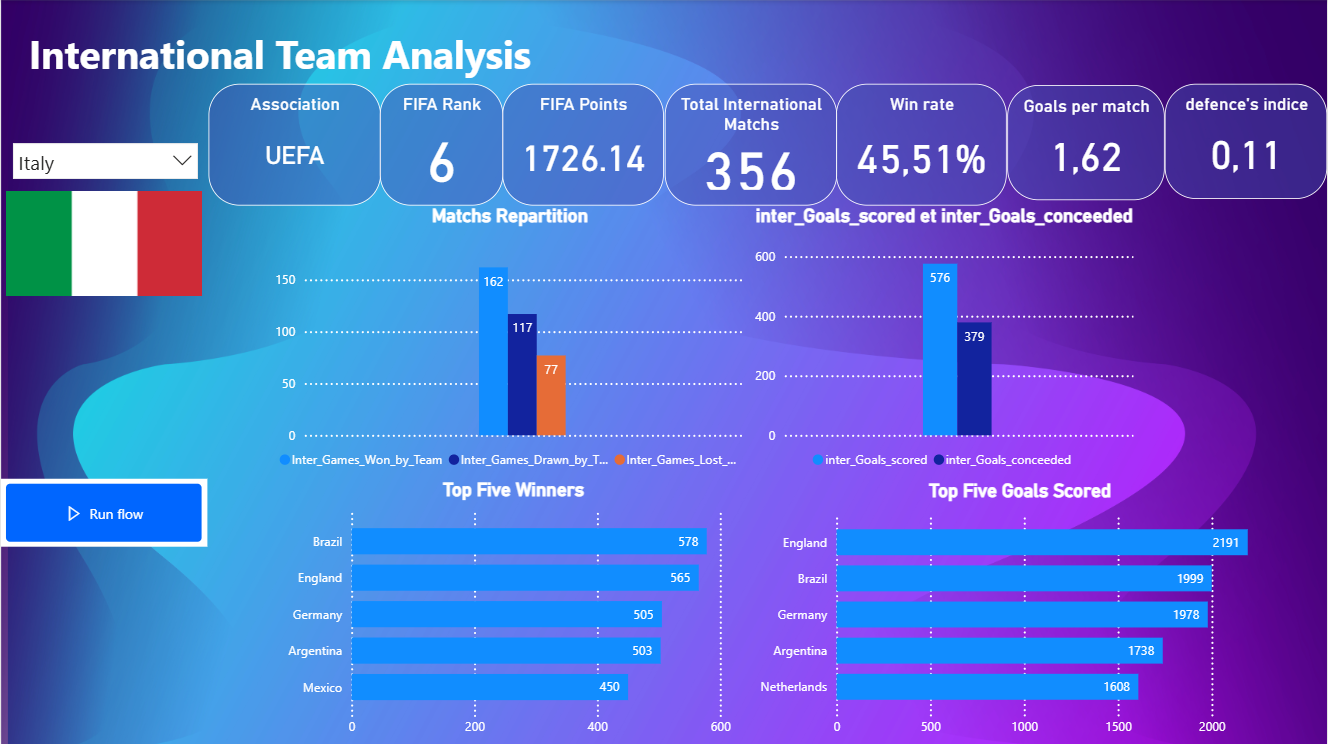

What the dashboard file says about the page in this screenshot:
{"tool":"powerbi","page":{"name":"International_Analysis","canvas":[1280,720],"ordinal":1},"visuals":[{"type":"slicer","fields":{"Values":["dim_fifa_ranking.team"]},"box":[1.4,127.6,199,52.1],"z":0},{"type":"card","title":"Total International Matchs","fields":{"Values":["fact_international_matches.Total_international_Matches_by_Team"]},"box":[640.1,80.5,166.1,117.5],"z":1000},{"type":"simpleImageEBC4593F96F1425FB3D84C5BF02B5075","fields":{"imageURL":["dim_fifa_ranking.Flag"]},"box":[0,179.8,199,111.1],"z":2000},{"type":"card","title":"Win rate","fields":{"Values":["fact_international_matches.Win Rate % by Team"]},"box":[806.2,80.5,164.8,117.5],"z":3000},{"type":"card","title":"Association","fields":{"Values":["Min(dim_fifa_ranking.association)"]},"box":[200.6,80.5,166.1,117.5],"z":4000},{"type":"card","title":"FIFA Points","fields":{"Values":["Min(dim_fifa_ranking.points)"]},"box":[484.2,80.5,155.9,117.5],"z":5000},{"type":"card","title":"FIFA Rank","fields":{"Values":["Sum(dim_fifa_ranking.rank)"]},"box":[365.4,80.5,118.8,117.5],"z":6000},{"type":"card","title":"Goals per match","fields":{"Values":["fact_international_matches.Attaque_indice"]},"box":[971.1,81.8,152,111.2],"z":7000},{"type":"clusteredColumnChart","title":"Matchs Repartition","fields":{"Y":["fact_international_matches.Inter_Games_Won_by_Team","fact_international_matches.Inter_Games_Drawn_by_Team","fact_international_matches.Inter_Games_Lost_by_Team"]},"box":[259.4,198,463.8,264.5],"z":8000},{"type":"clusteredColumnChart","fields":{"Y":["fact_international_matches.inter_Goals_scored","fact_international_matches.inter_Goals_conceeded"]},"box":[723.2,198,375.6,264.5],"z":9000},{"type":"textbox","box":[22,22,521.4,68.6],"z":10000},{"type":"card","title":"defence''s indice ","fields":{"Values":["fact_international_matches.deffence_indice"]},"box":[1123.1,80.5,157.2,111.2],"z":11000},{"type":"barChart","title":"Top Five Winners","fields":{"Category":["dim_fifa_ranking.team"],"Y":["fact_international_matches.Inter_Games_Won_by_Team"]},"box":[267,462.5,456.1,258.1],"z":12000},{"type":"barChart","title":"Top Five Goals Scored","fields":{"Category":["dim_fifa_ranking.team"],"Y":["fact_international_matches.inter_Goals_scored"]},"box":[723.1,463.6,521.9,256.4],"z":13000},{"type":"FlowVisual_C29F1DCC_81F5_4973_94AD_0517D44CC06A","fields":{"table":["dim_fifa_ranking.team"]},"box":[0,462.4,199,65.9],"z":14000}]}

Visuals, with their boxes in screenshot pixels (x1, y1, x2, y2), scaled from the page's 1280x720 canvas onto the 1328x744 screenshot:
slicer - dim_fifa_ranking.team: <box>1,132,208,186</box>
"Total International Matchs" card: <box>664,83,836,205</box>
simpleImageEBC4593F96F1425FB3D84C5BF02B5075 - dim_fifa_ranking.Flag: <box>0,186,206,301</box>
"Win rate" card: <box>836,83,1007,205</box>
"Association" card: <box>208,83,380,205</box>
"FIFA Points" card: <box>502,83,664,205</box>
"FIFA Rank" card: <box>379,83,502,205</box>
"Goals per match" card: <box>1008,85,1165,199</box>
"Matchs Repartition" clusteredColumnChart: <box>269,205,750,478</box>
clusteredColumnChart - fact_international_matches.inter_Goals_scored x fact_international_matches.inter_Goals_conceeded: <box>750,205,1140,478</box>
textbox: <box>23,23,564,94</box>
"defence''s indice " card: <box>1165,83,1327,198</box>
"Top Five Winners" barChart: <box>277,478,750,743</box>
"Top Five Goals Scored" barChart: <box>750,479,1292,743</box>
FlowVisual_C29F1DCC_81F5_4973_94AD_0517D44CC06A - dim_fifa_ranking.team: <box>0,478,206,546</box>
